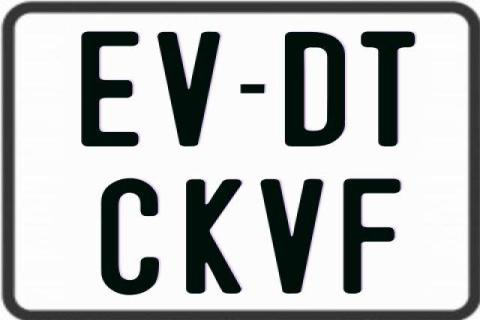C: (101, 178, 165, 298)
D: (282, 32, 342, 151)
E: (81, 29, 140, 145)
F: (343, 176, 407, 294)
K: (184, 177, 240, 293)
T: (358, 29, 416, 145)
V: (258, 178, 323, 296), (158, 30, 220, 146)
